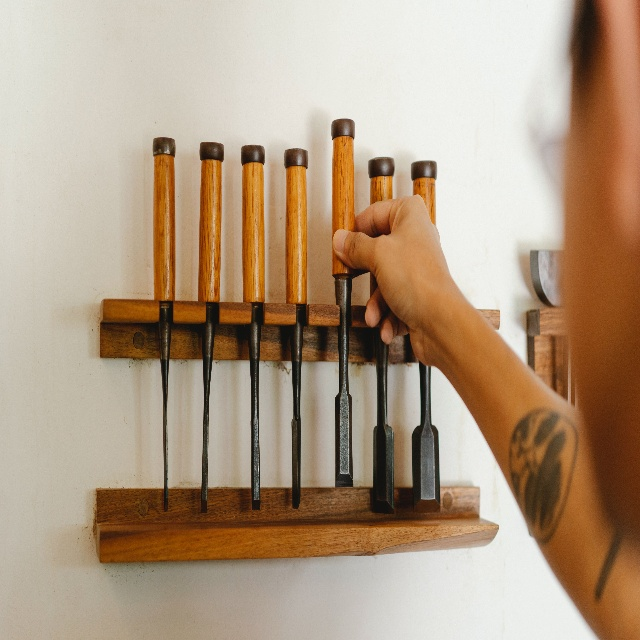Sin_guantes: (332, 193, 445, 368)
